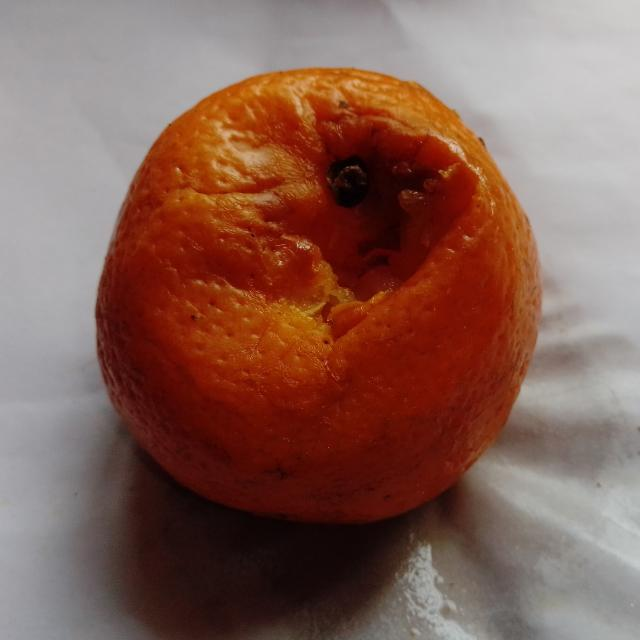orange: (97, 69, 540, 522)
